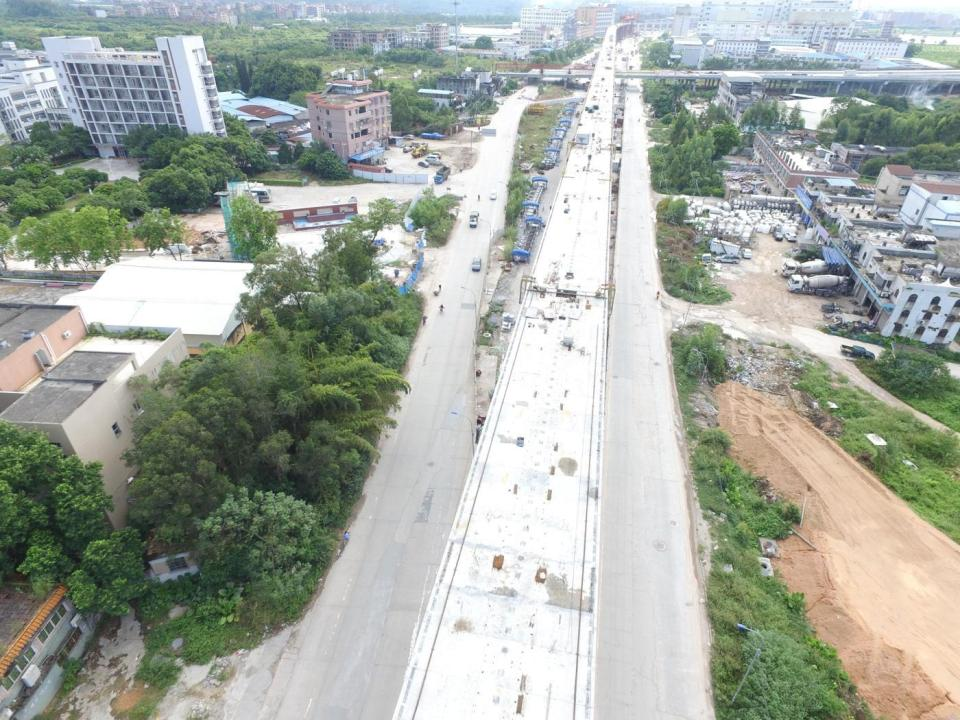car: (471, 255, 481, 272), (784, 232, 797, 242), (742, 248, 751, 259), (772, 232, 782, 241), (418, 161, 428, 167), (402, 134, 413, 139), (490, 190, 496, 199), (583, 83, 585, 86)
truck: (840, 344, 874, 361), (433, 166, 450, 184), (714, 254, 741, 263), (821, 302, 840, 313), (420, 132, 444, 140), (469, 212, 479, 229), (376, 164, 392, 173), (410, 141, 428, 149), (585, 82, 592, 91), (622, 56, 627, 61), (618, 48, 622, 53)
van: (243, 186, 273, 202), (214, 192, 241, 208), (424, 155, 439, 162), (403, 145, 417, 152), (431, 152, 441, 159), (518, 94, 522, 99)
